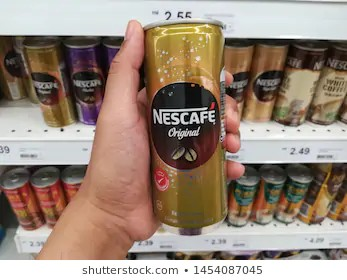nescafe-can: (145, 23, 230, 226), (62, 37, 111, 131), (24, 39, 76, 123), (245, 42, 282, 125)
